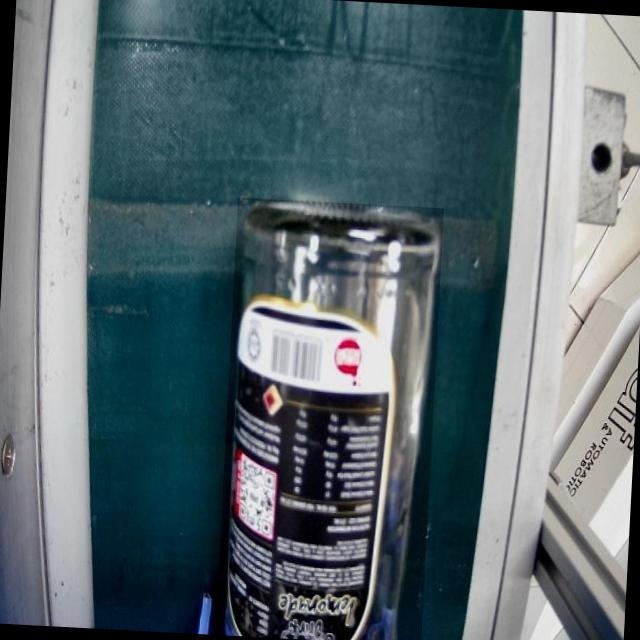BotolKaca: (216, 196, 443, 640)
